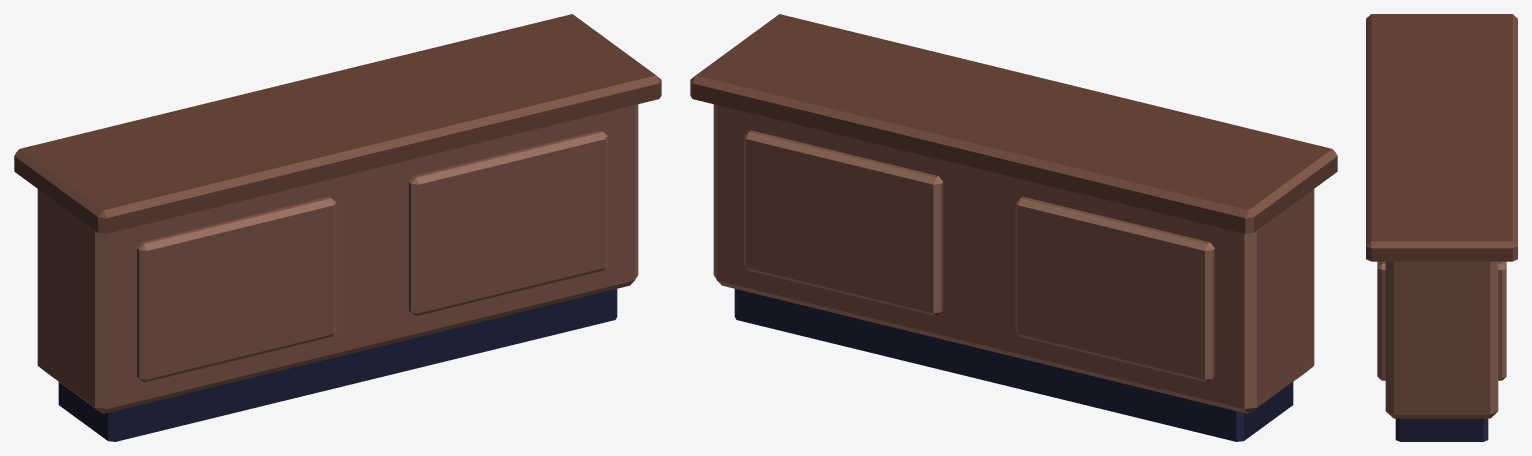
The model's file is Counter_8x2.fbx.
3 renders of one model, left to right at view 1: azimuth 30°, elevation 25°; view 2: azimuth 150°, elevation 25°; view 3: azimuth 270°, elevation 25°, orthographic. The views are drawn at different scales.
Parts seen in each view (by area): view 1: Counter_8x2; view 2: Counter_8x2; view 3: Counter_8x2.
Part boxes in pixels (x1=…): Counter_8x2: x1=14, y1=14, x2=661, y2=441; Counter_8x2: x1=690, y1=14, x2=1337, y2=441; Counter_8x2: x1=1366, y1=14, x2=1517, y2=441.
Bounding box in the file's own units: 8.3 × 3.5 × 2.3.
1 material, 1 textured.
